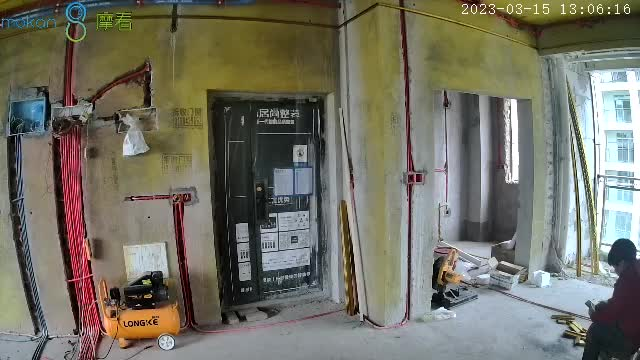people: (582, 239, 639, 360)
window: (591, 71, 640, 248)
